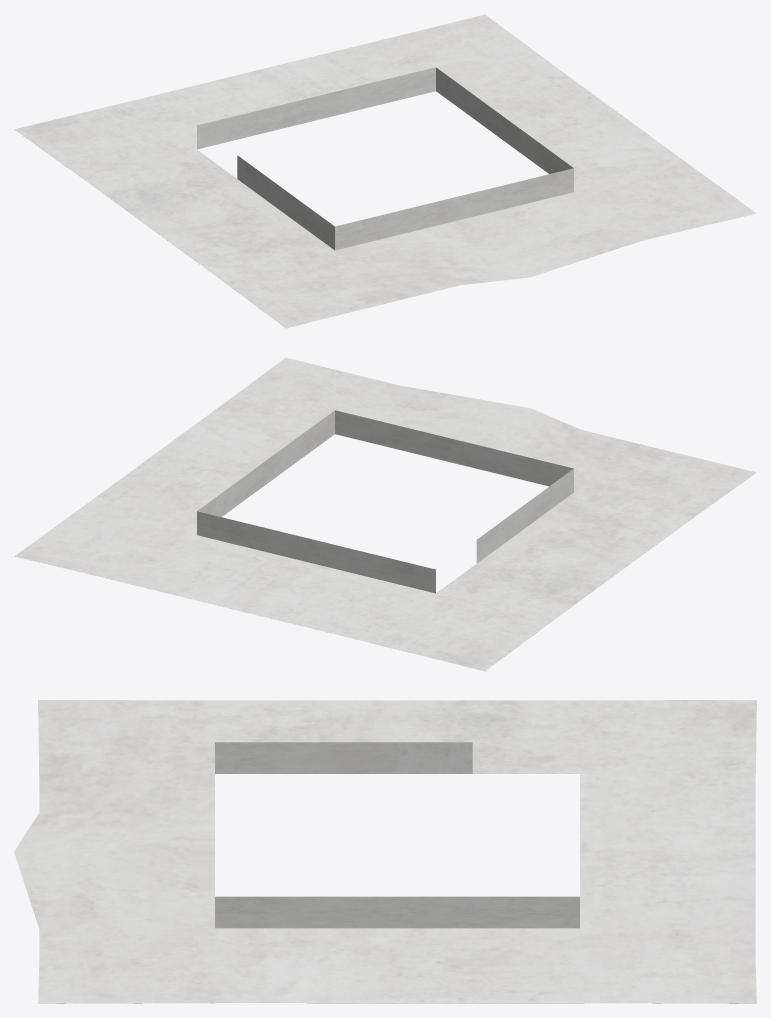
File: museumfence.glb
3 renders of one model, top to bottom at view 1: azimuth 30°, elevation 25°; view 2: azimuth 150°, elevation 25°; view 3: azimuth 270°, elevation 25°, orthographic. The views are drawn at different scales.
Parts seen in each view (by area): view 1: Cube.002; view 2: Cube.002; view 3: Cube.002.
Part boxes in pixels (x1,y1,x2,y2): Cube.002: (14, 14, 756, 328); Cube.002: (14, 357, 756, 671); Cube.002: (14, 700, 756, 1003).
Bounding box in the file's own units: 39.42 × 1.97 × 40.74.
1 material, 1 textured.
